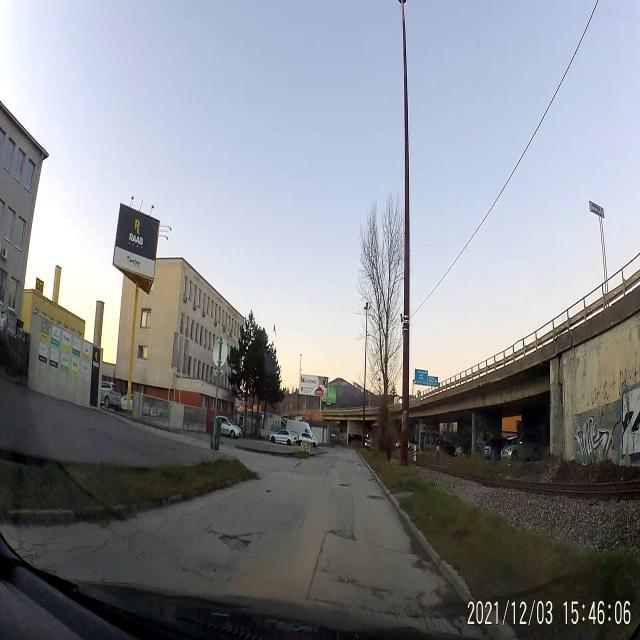Manhole: (364, 493, 388, 501)
Pothole: (409, 590, 469, 624), (214, 528, 249, 558), (324, 524, 358, 546), (261, 484, 277, 498), (336, 481, 354, 489)
